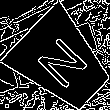N_SE: (30, 30, 94, 95)
